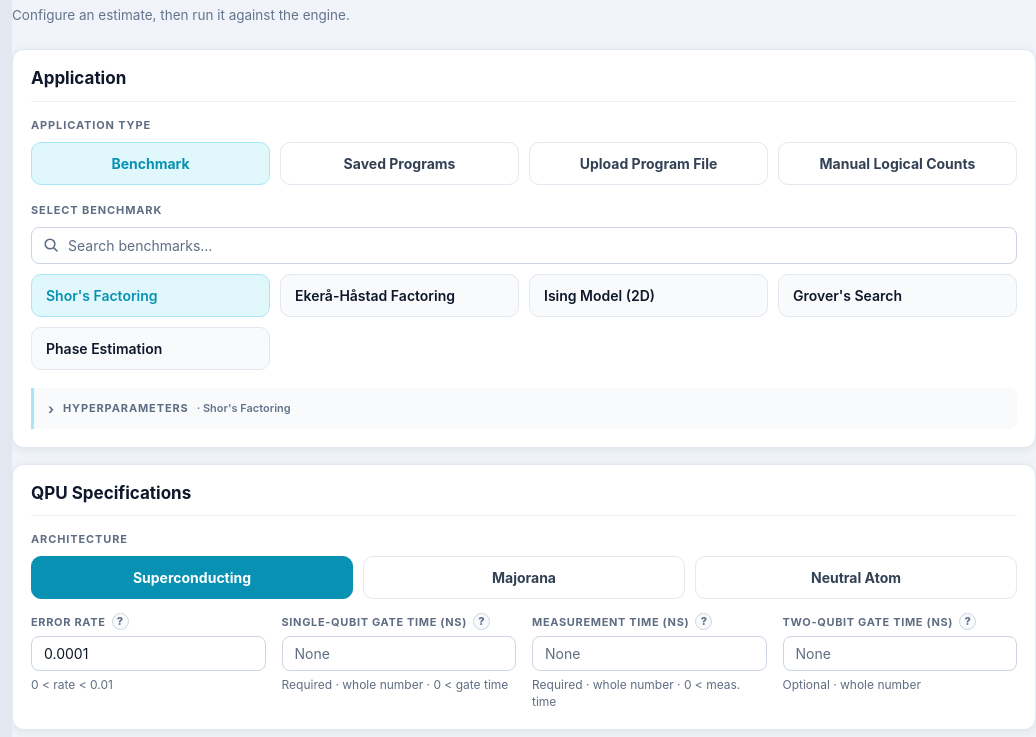
Test: Run-button validation gating › re-disables Run and explains why when a field goes out of range
Type "50" into the field labelled "Single-Qubit Gate Time (ns)" at (399, 654), box [282,636,516,671]
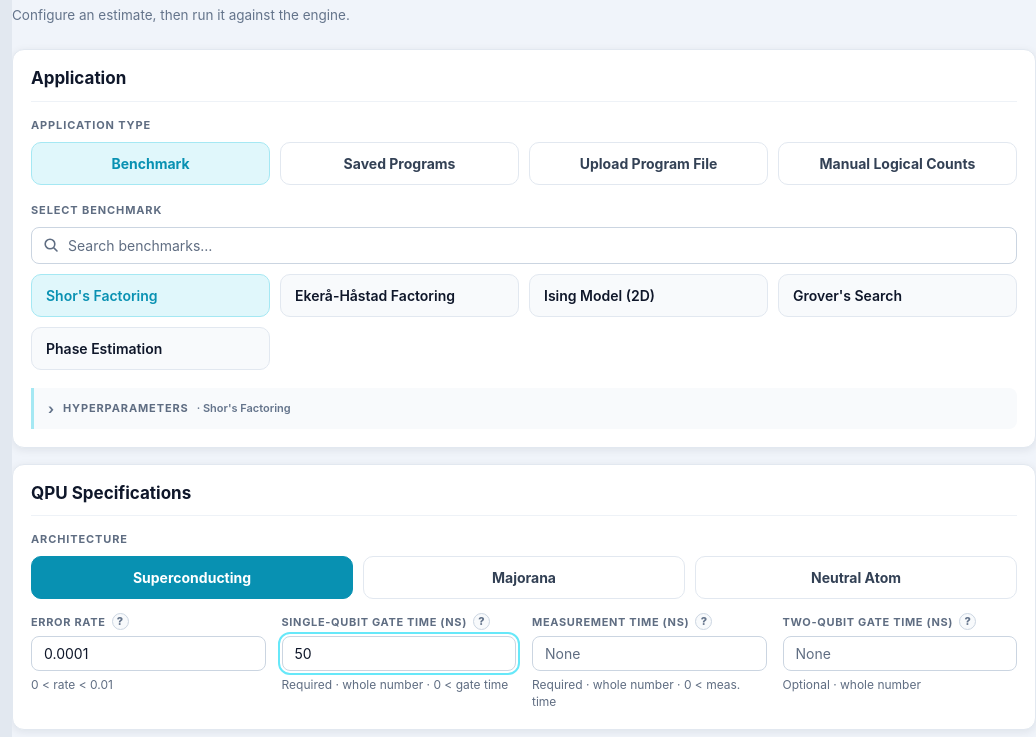
Type "100" into the field labelled "Measurement Time (ns)" at (649, 654), box [532,636,766,671]
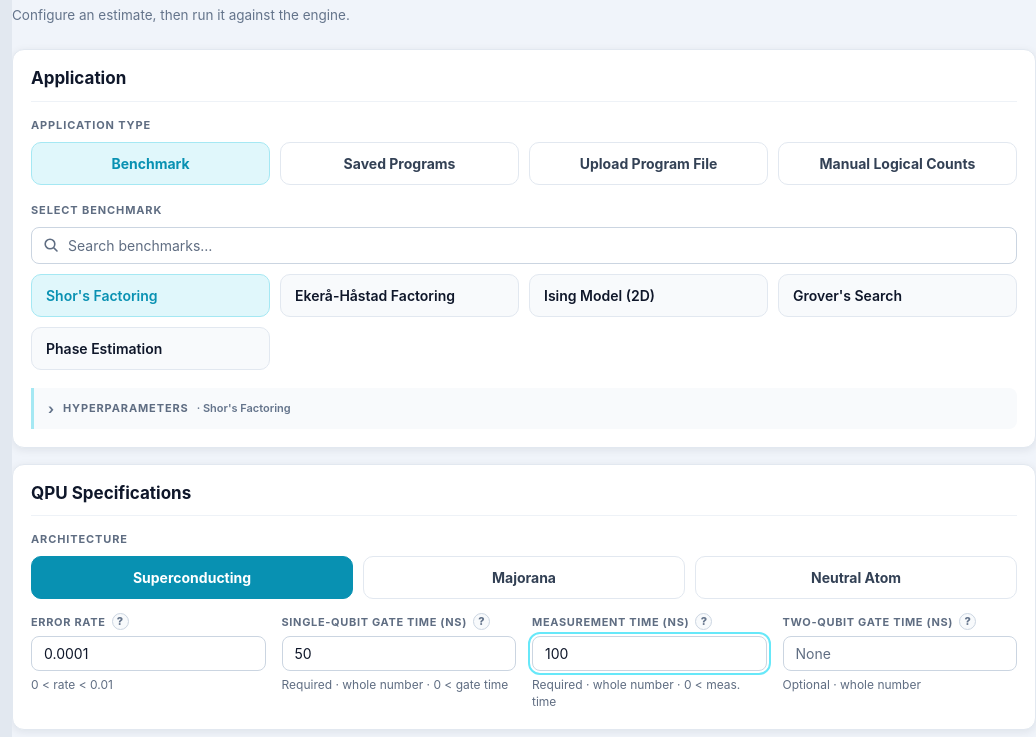
Replace the text in the field labelled "Error rate" with "0.5" at (148, 654), box [31,636,266,671]
(page scrolled)
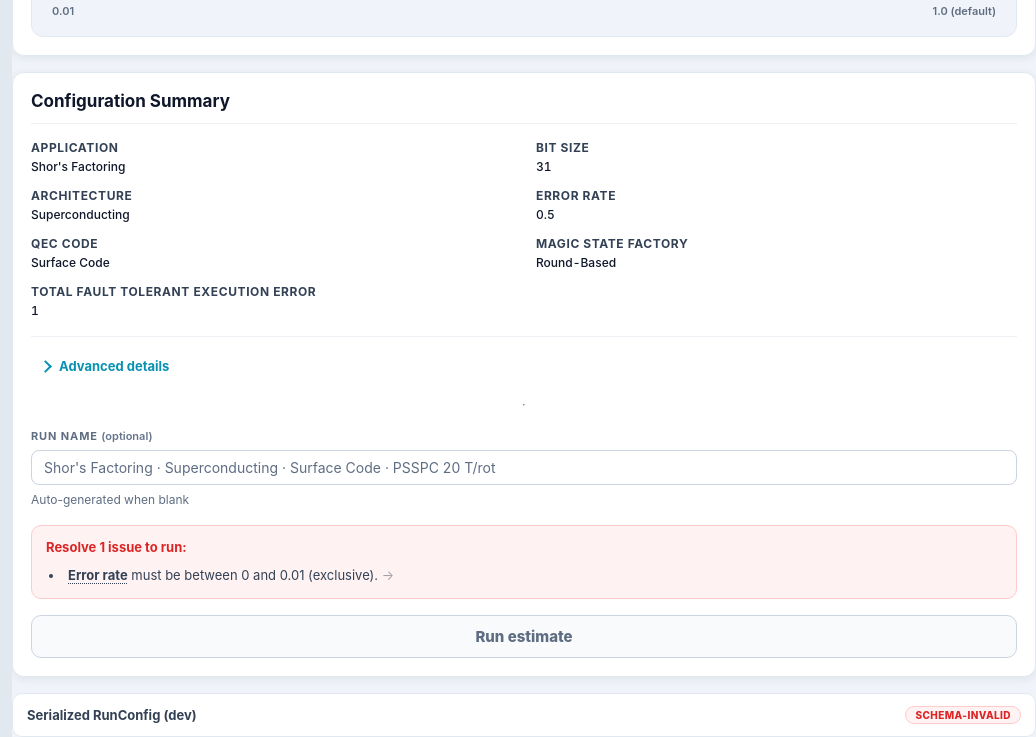
Result: the button "Run estimate" is disabled at [31,616,1017,658]
Result: the button "Error rate must be between 0 and 0.01 (exclusive)." is shown at [64,564,1002,586]
